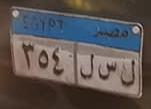3: (21, 41, 37, 69)
4: (51, 45, 63, 75)
5: (38, 48, 49, 68)
laam: (120, 59, 136, 89), (79, 52, 96, 80)
seen: (97, 60, 118, 81)
